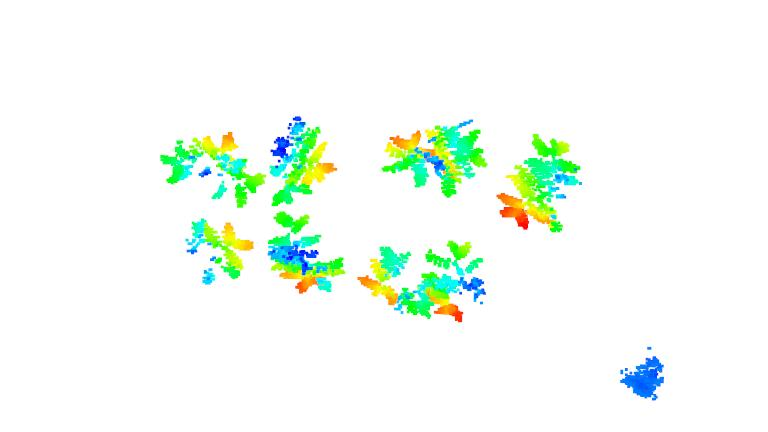chickpea: (377, 121, 489, 198), (497, 132, 583, 232), (163, 131, 266, 207), (403, 239, 490, 322), (266, 208, 347, 293), (268, 115, 335, 204), (184, 218, 255, 285), (352, 246, 415, 305)
